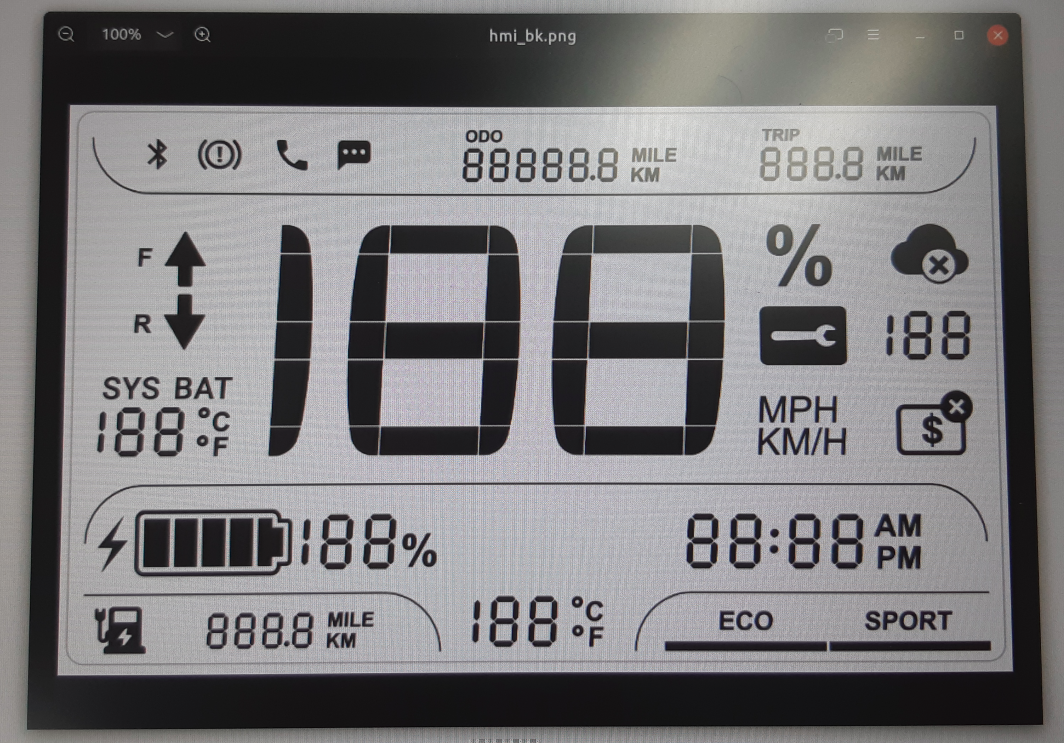bluetooth_on: (142, 135, 174, 172)
braking_on: (193, 135, 245, 173)
calling_on: (272, 135, 311, 175)
connection_lost: (886, 220, 972, 287)
error_code: (754, 302, 851, 369)
low_battery: (91, 603, 150, 658)
sms_on: (334, 137, 374, 175)
vin_id: (892, 387, 976, 459)
